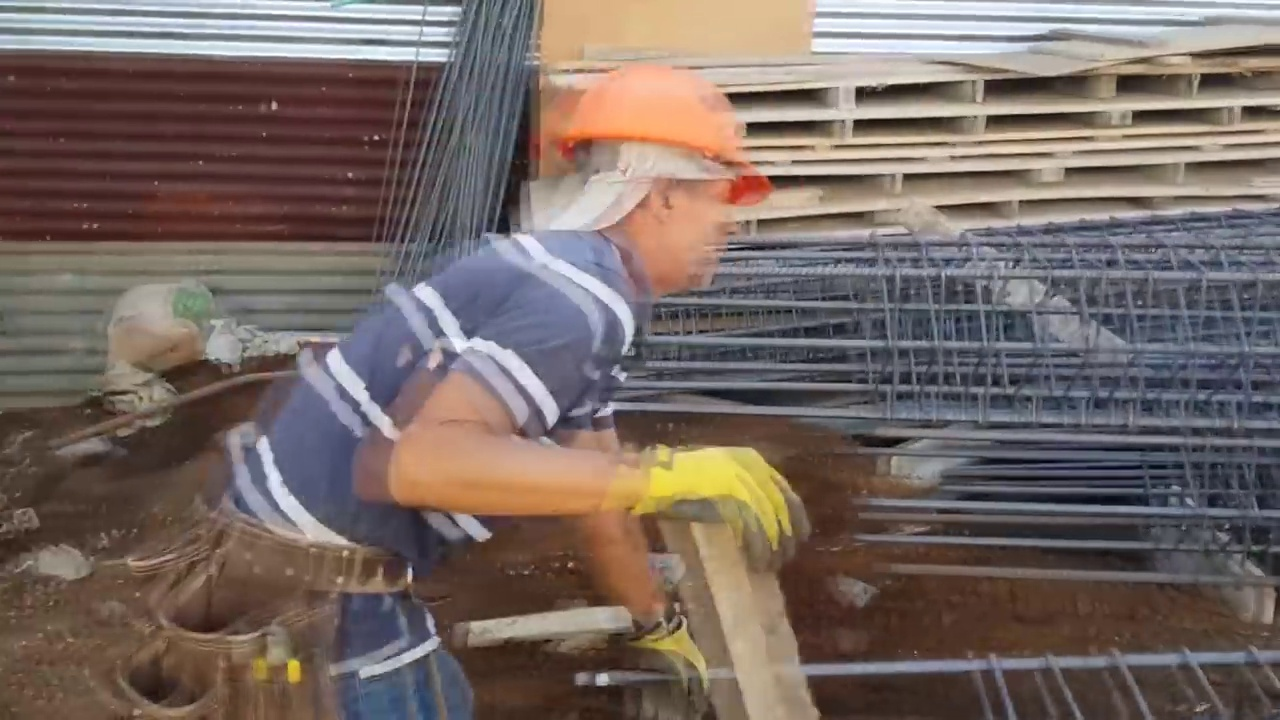helmet: (546, 65, 777, 209)
helmet-on: (543, 65, 776, 302)
person: (174, 62, 806, 717)
